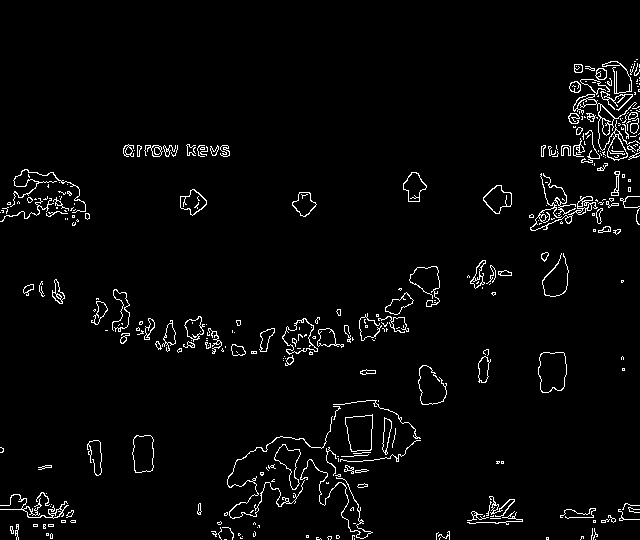down: (283, 188, 324, 224)
left: (477, 181, 516, 222)
right: (175, 184, 216, 223)
up: (398, 166, 435, 210)
